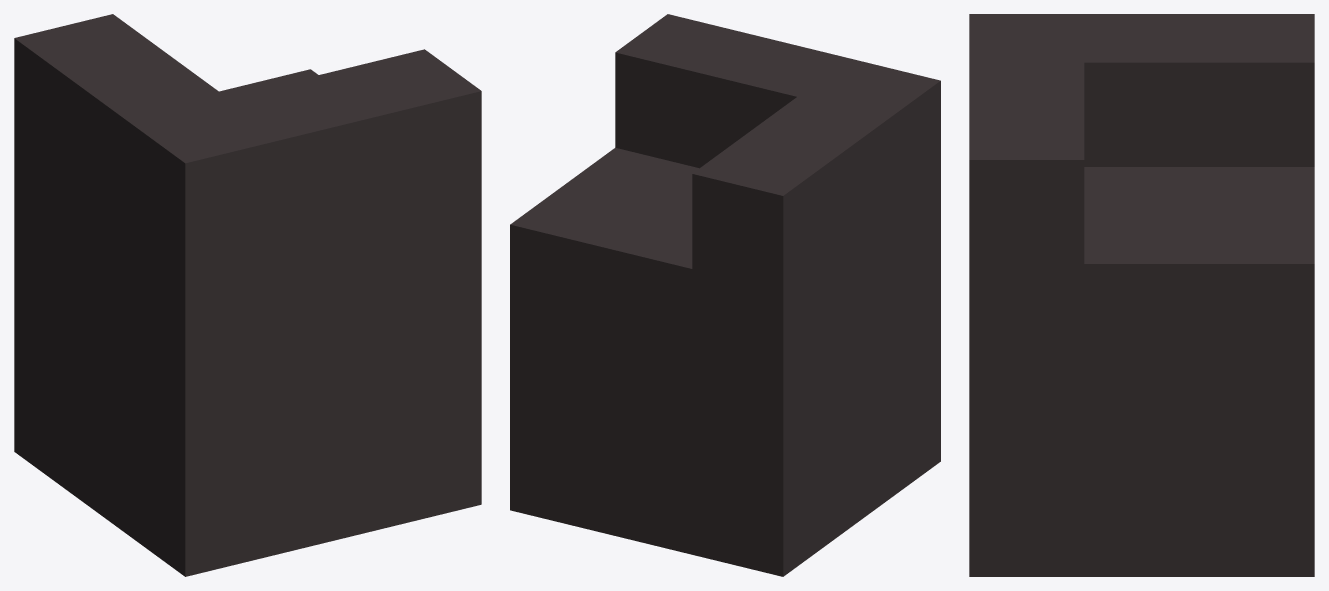
Rendered from badger__leg_fr.glb.
3 renders of one model, left to right at view 1: azimuth 30°, elevation 25°; view 2: azimuth 150°, elevation 25°; view 3: azimuth 270°, elevation 25°, orthographic. The views are drawn at different scales.
Visible parts, largest first — view 1: badger__leg_fr; view 2: badger__leg_fr; view 3: badger__leg_fr.
Part boxes in pixels (left/top/right/bottom): badger__leg_fr: left=14, top=14, right=481, bottom=576; badger__leg_fr: left=510, top=14, right=940, bottom=576; badger__leg_fr: left=969, top=14, right=1314, bottom=576.
Size of the model in its own units: 0.3 by 0.4 by 0.3.
1 material, 1 textured.
